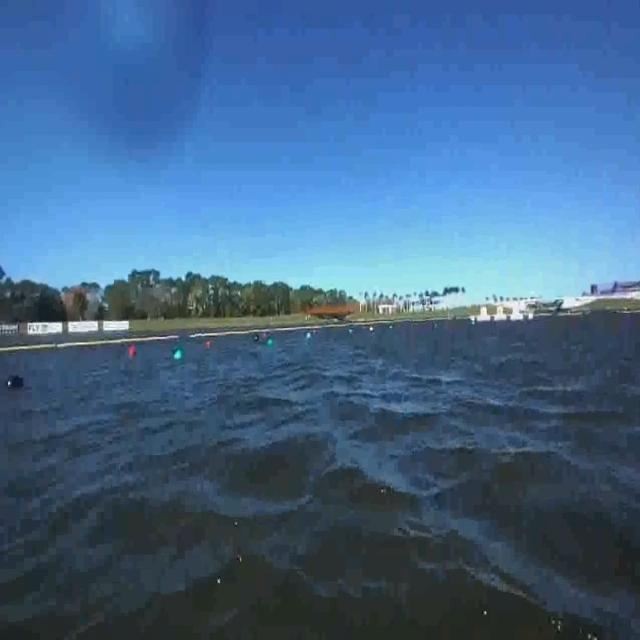black-buoy: (6, 375, 25, 390)
green-buoy: (168, 347, 187, 363)
red-buoy: (130, 346, 138, 358)
